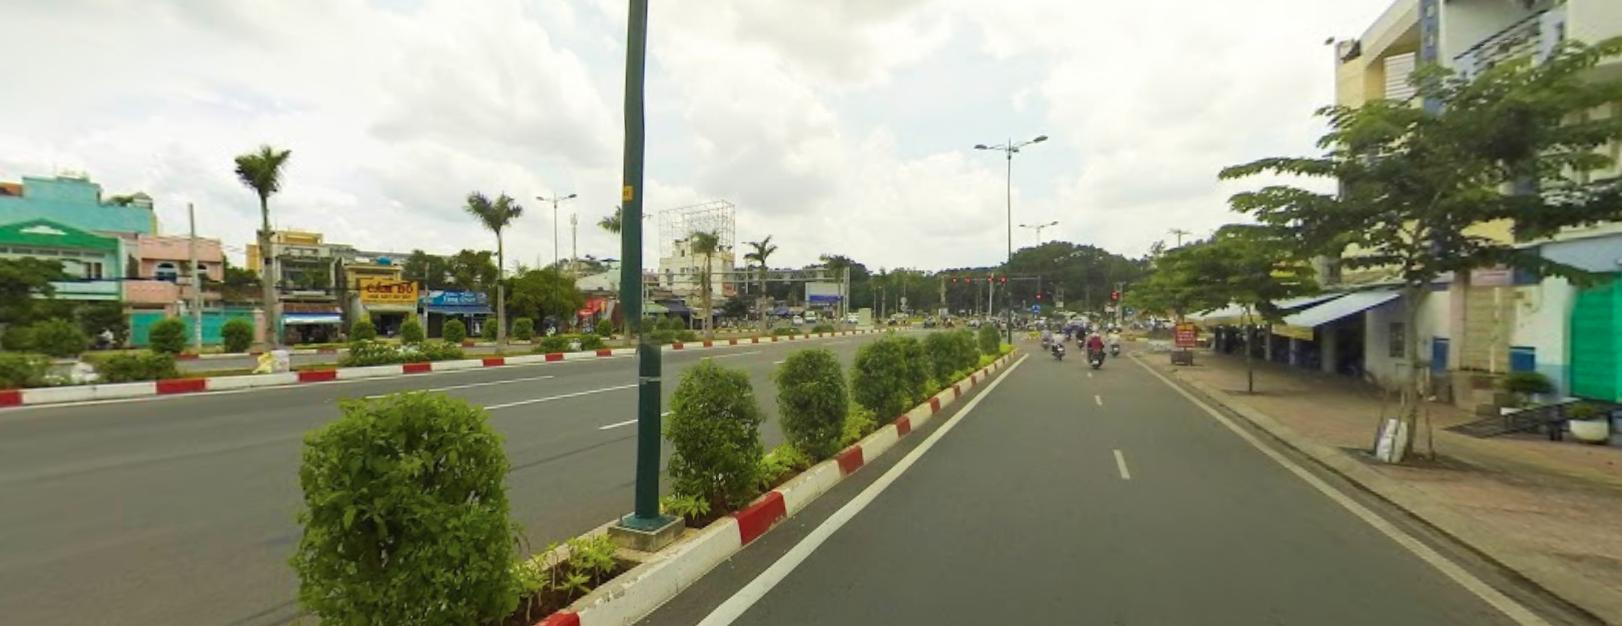Hieu lenh: (1030, 301, 1039, 311), (1031, 302, 1040, 311), (1031, 301, 1040, 309)
